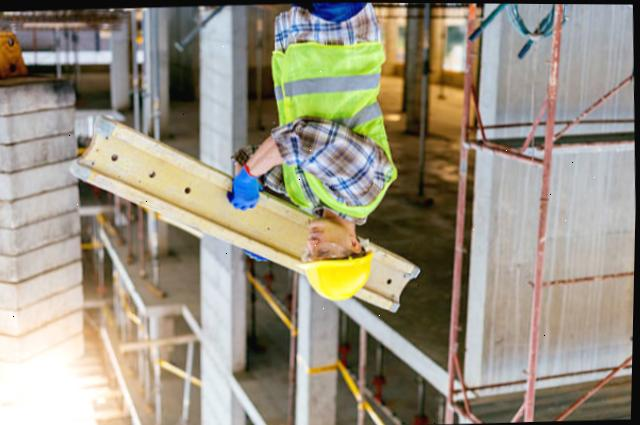helmet: (295, 244, 375, 305)
vest: (275, 35, 386, 218)
